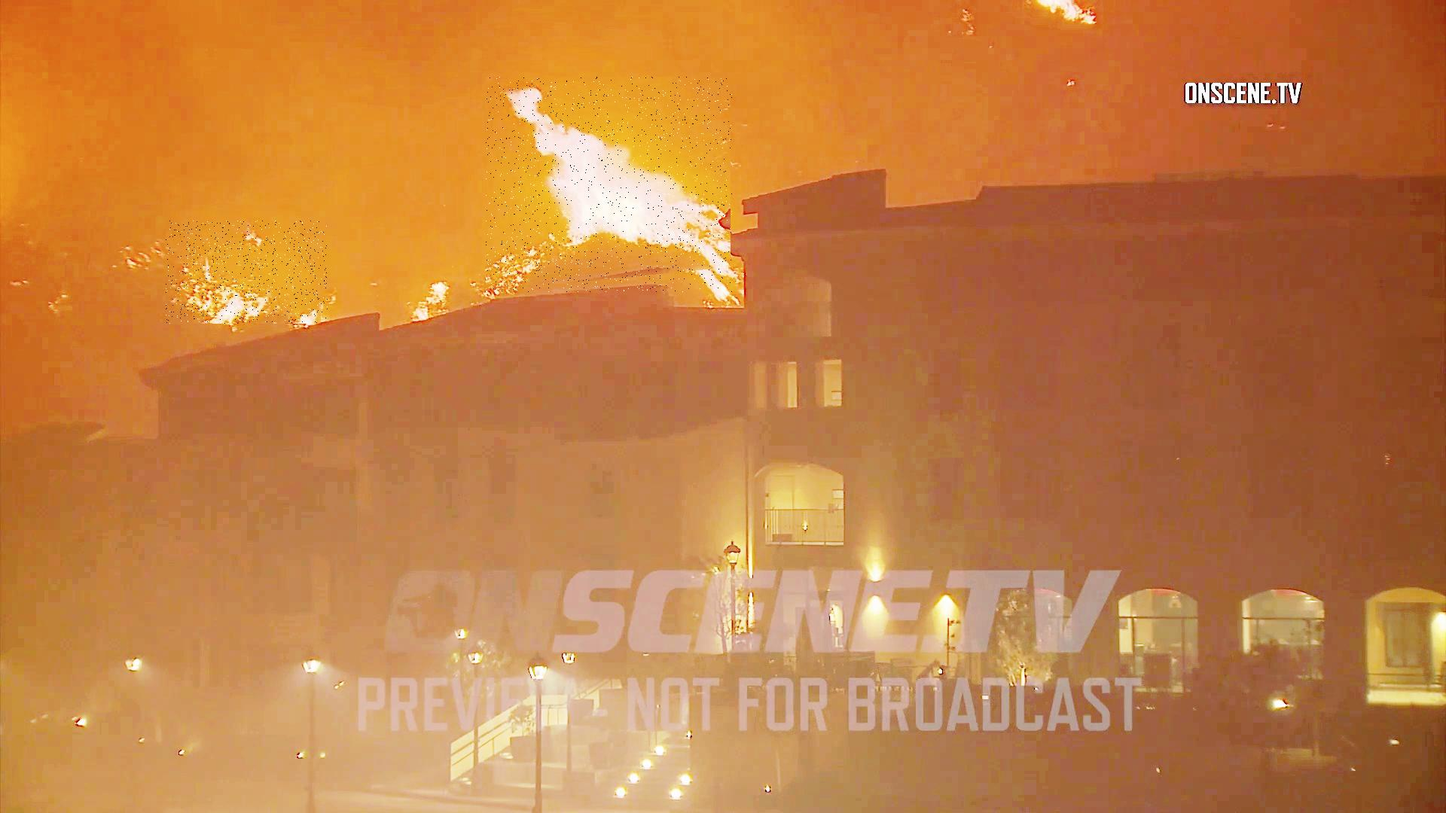fire: (486, 77, 733, 293), (166, 221, 328, 324)
